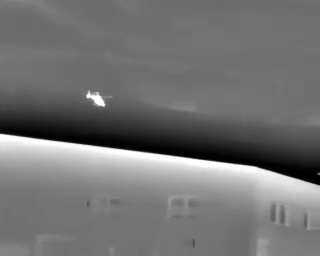HELICOPTER: (83, 86, 117, 114)
